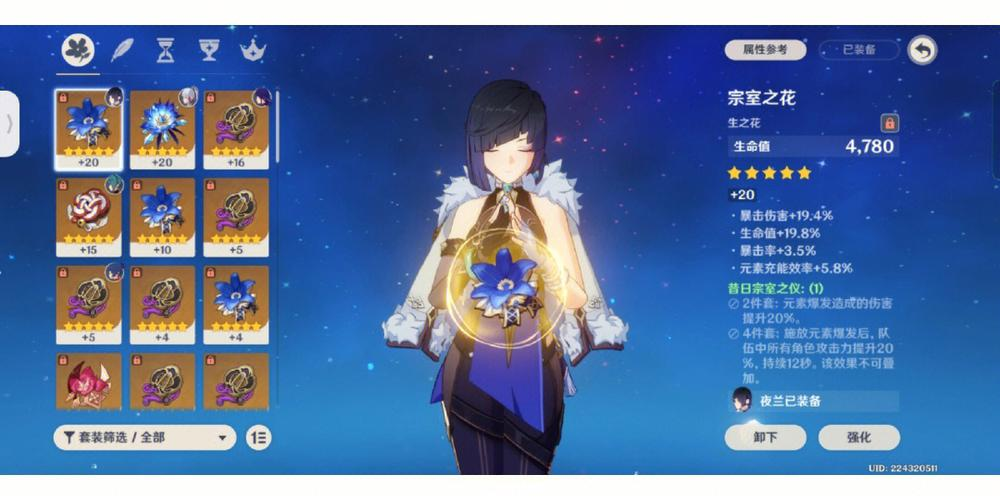夜兰: (416, 77, 587, 473)
